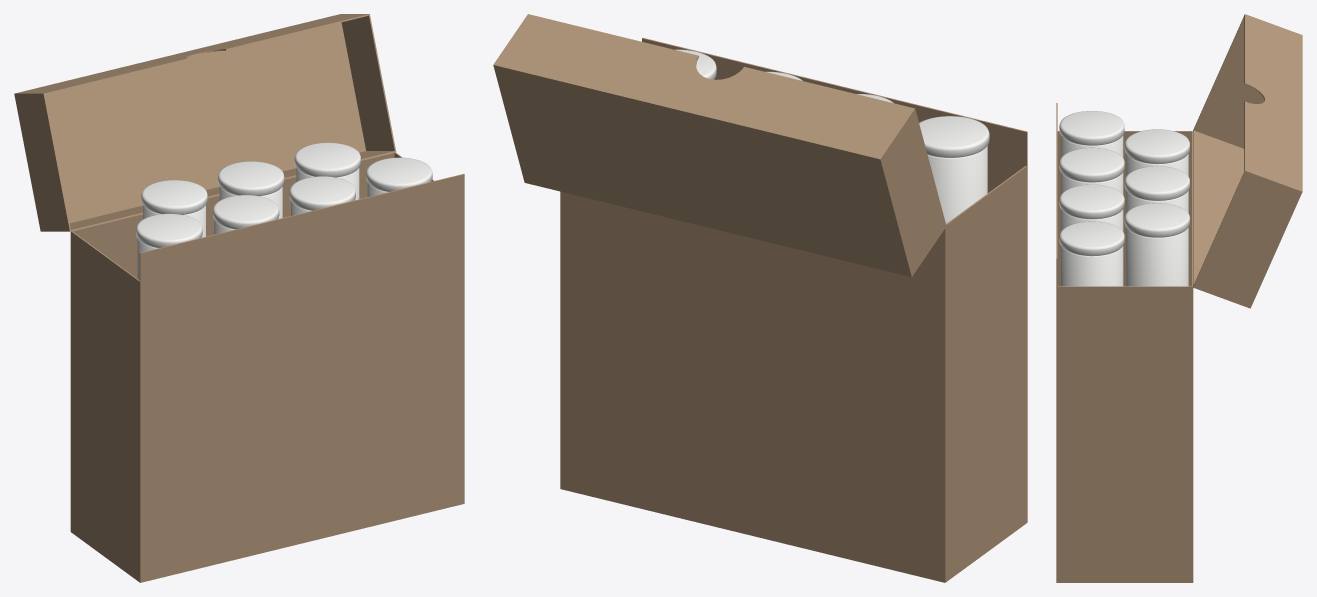
File: preroll-71_5gr-box-standart-open.glb
3 views of the same model, side by side, from view 1: azimuth 30°, elevation 25°; view 2: azimuth 150°, elevation 25°; view 3: azimuth 270°, elevation 25° (orthographic). The views are drawn at different scales.
Parts seen in each view (by area): view 1: p15s_b1, p15s_l0, p15s_b3, p15s_l3, p15s_l4, p15s_b2, p15s_l1, t6_lid, t5_lid, t4_lid, t0_lid, t3_lid (+4 smaller); view 2: p15s_b2, p15s_l0, p15s_b3, p15s_l1, p15s_l3, p15s_b1, t0_body, t0_lid, p15s_b0, p15s_l2; view 3: p15s_b4, p15s_l1, p15s_l4, p15s_l2, p15s_l3, t6_body, t3_body, t2_lid, t1_lid, t3_lid, t0_lid, t6_lid (+11 smaller).
Part boxes in pixels (x1,y1,x2,y2): p15s_b1: (139,174,464,582); p15s_l0: (14,14,365,230); p15s_b3: (70,231,141,582); p15s_l3: (15,93,70,231); p15s_l4: (340,14,395,150); p15s_b2: (70,152,395,531); p15s_l1: (15,14,369,94); t6_lid: (294,142,360,177); t5_lid: (218,161,284,196); t4_lid: (141,180,207,214); t0_lid: (136,213,202,248); t3_lid: (366,157,432,191); p15s_b2: (560,191,945,582); p15s_l0: (493,64,912,276); p15s_b3: (943,166,1026,582); p15s_l1: (494,14,915,159); p15s_l3: (879,108,945,275); p15s_b1: (642,38,1027,522); t0_body: (927,146,987,223); t0_lid: (919,116,989,157); p15s_b0: (560,487,1026,581); p15s_l2: (524,181,946,276); p15s_b4: (1056,286,1193,582); p15s_l1: (1244,14,1302,192); p15s_l4: (1193,170,1301,307); p15s_l2: (1193,130,1250,308); p15s_l3: (1193,14,1301,148); t6_body: (1126,228,1188,286); t3_body: (1061,246,1123,286); t2_lid: (1059,184,1124,219); t1_lid: (1059,147,1124,182); t3_lid: (1059,221,1124,256); t0_lid: (1059,111,1124,145); t6_lid: (1124,203,1189,237).
Size of the model in its own units: 0.1192 by 0.1464 by 0.0792.
